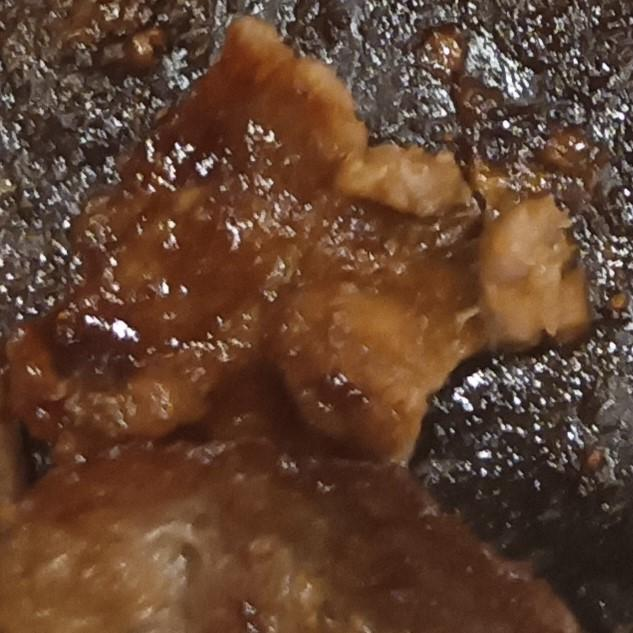Overcooked: (0, 441, 563, 632)
Well-Cooked: (15, 15, 593, 467)
